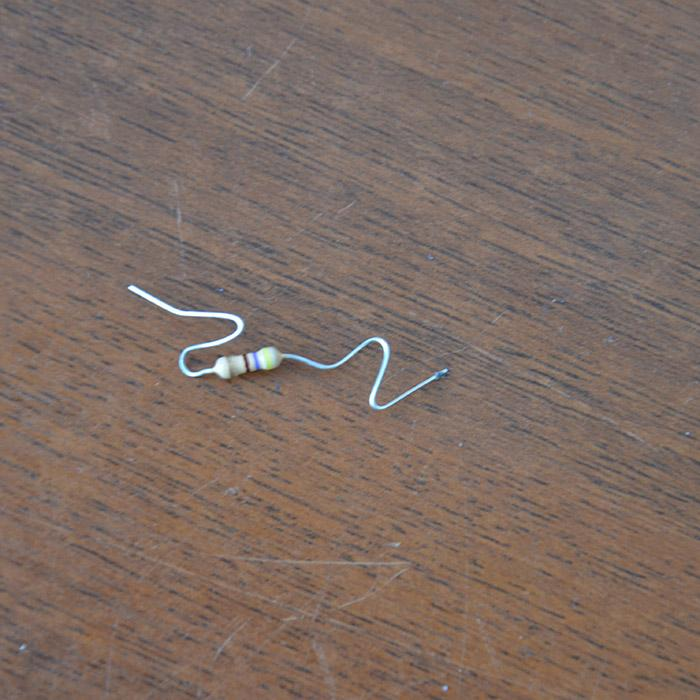resistor: (210, 344, 284, 379)
